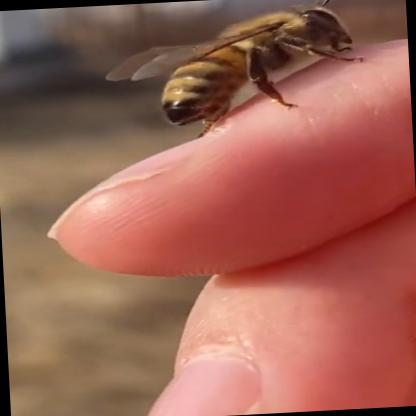bee: (92, 0, 383, 148)
